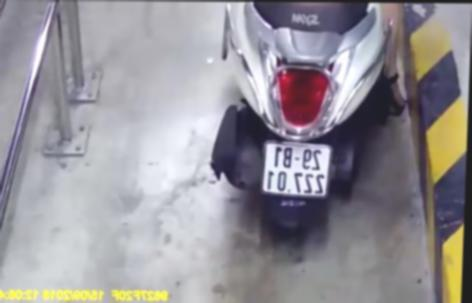License_Plate: (249, 138, 338, 203)
